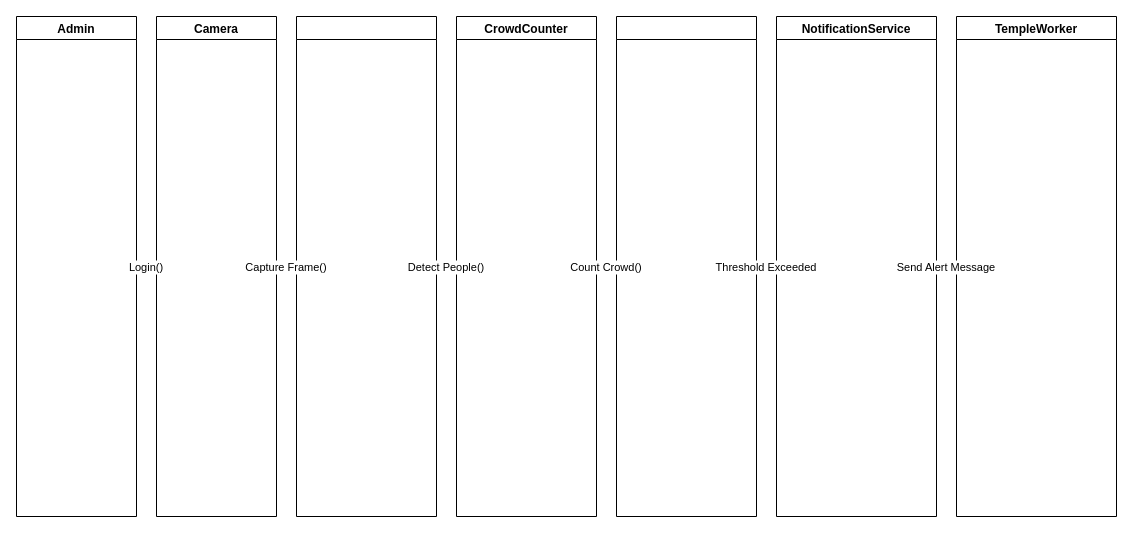
Image size: 1133x533. Some labels were removed from this diagram. Each missing label, with the centre of its shape:
AlertService: the point at 686,266
CrowdDetector: the point at 366,266
